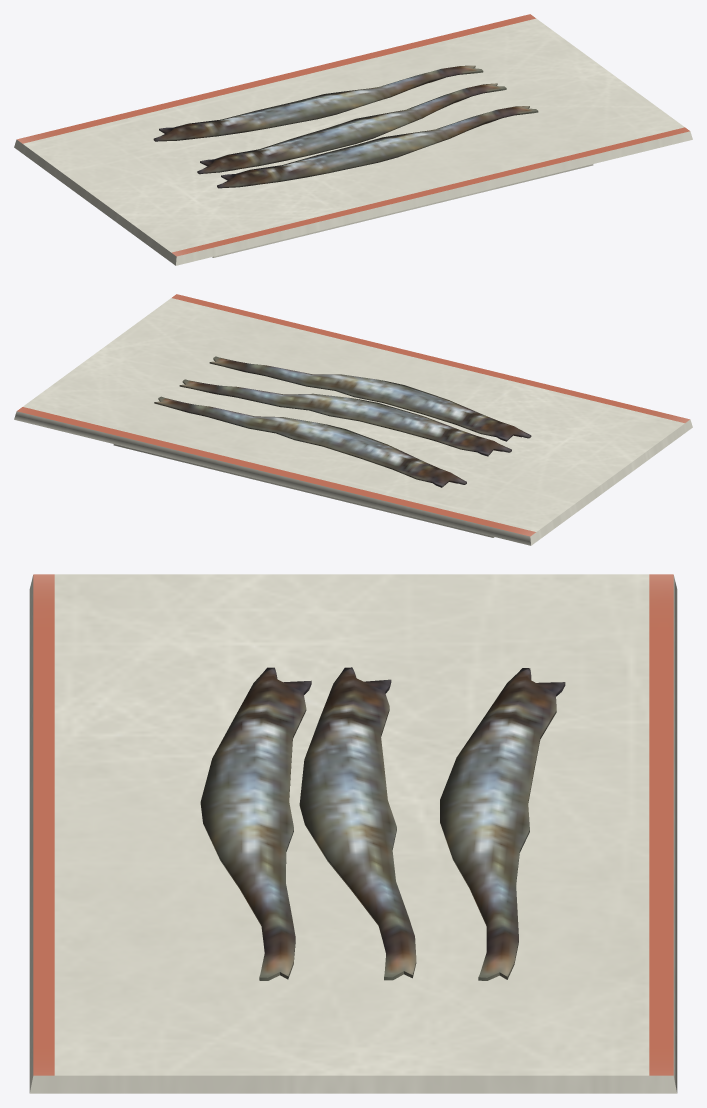
Rendered from dinerfoods10a.fbx.
3 views of the same model, one above another, from view 1: azimuth 30°, elevation 25°; view 2: azimuth 150°, elevation 25°; view 3: azimuth 270°, elevation 25° (orthographic). The views are drawn at different scales.
Parts seen in each view (by area): view 1: dinerfoods10a; view 2: dinerfoods10a; view 3: dinerfoods10a.
Part boxes in pixels (left/top/right/bottom): dinerfoods10a: left=14, top=14, right=692, bottom=265; dinerfoods10a: left=14, top=294, right=692, bottom=545; dinerfoods10a: left=29, top=574, right=677, bottom=1093.
Size of the model in its own units: 32 by 2.99 by 17.35.
